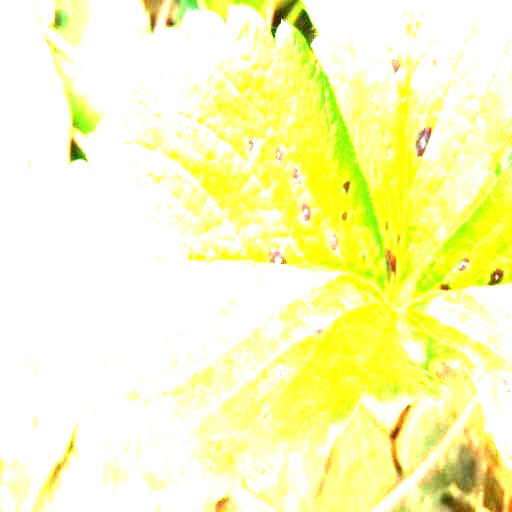Leaf Spot: (28, 3, 445, 511), (301, 0, 511, 293), (399, 144, 511, 474)
